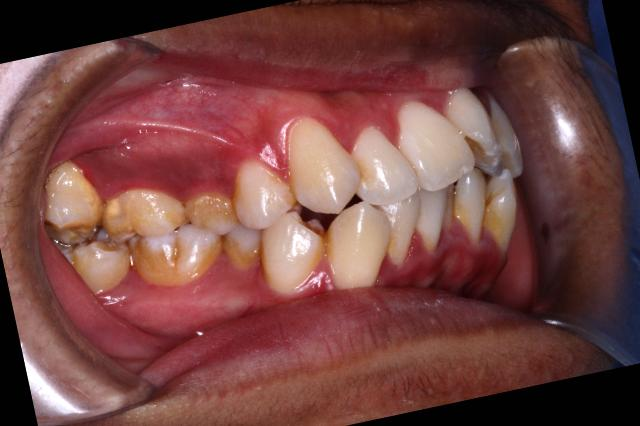canine class II 1/4: (230, 96, 403, 307)
molar class III 1/2: (94, 166, 230, 300)
